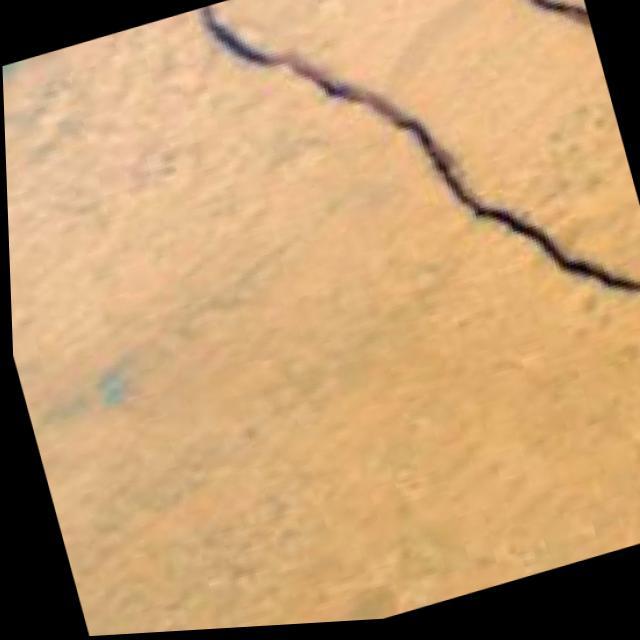Crack: (201, 0, 640, 401)
